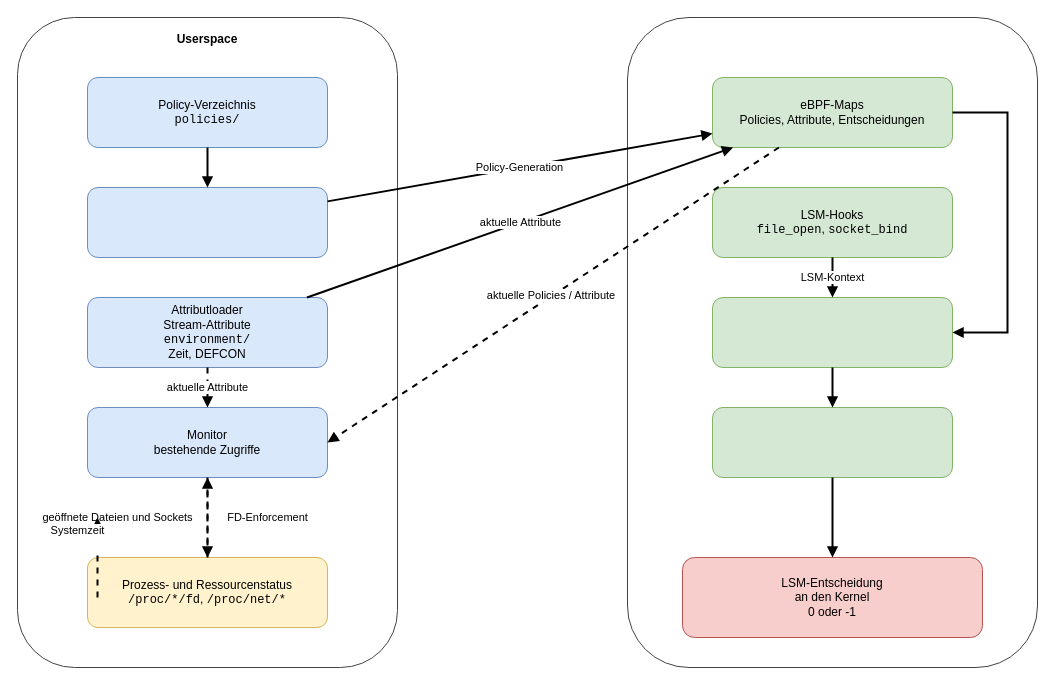
Some shapes in this 1055 by 685 pixel diagram are drawn without their labels. The shapes that lost their labels are listed below. From the top down, each one's box as (x1, y1, x2, y2) in pixels, then its label:
(86, 186, 328, 258): Policyverwaltung Einlesen, Parsen, Validieren
(712, 296, 952, 368): Policy-Auswertung static und stream
(626, 16, 1038, 668): Kernelspace
(712, 406, 952, 478): Combining Permit oder Deny
